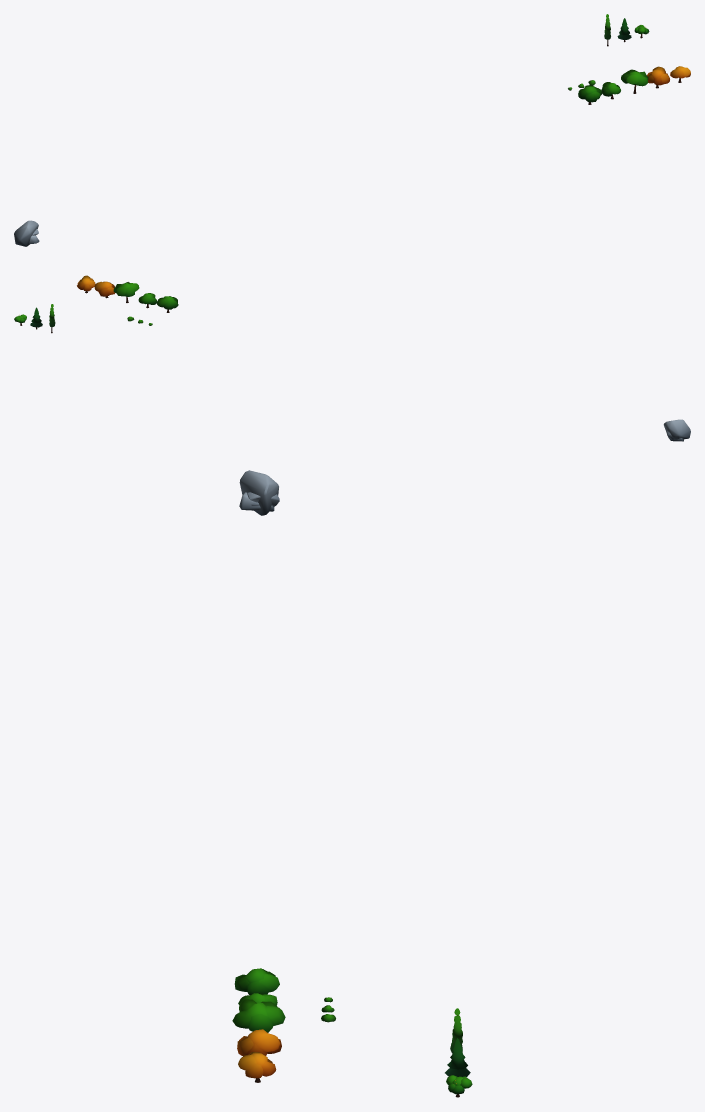
File: Harita_Doga.fbx
3 views of the same model, one above another, from view 1: azimuth 30°, elevation 25°; view 2: azimuth 150°, elevation 25°; view 3: azimuth 270°, elevation 25° (orthographic). The views are drawn at different scales.
Parts seen in each view (by area): view 1: SM_Kaya_Kitle_2, SM_Agac_Yesil_3_LOD0; view 2: SM_Kaya_Kitle_2, SM_Agac_Yesil_3_LOD0; view 3: SM_Agac_Yesil_3_LOD0, SM_Kaya_Kitle_2.
Boxes of the visible parts, x1,y1,x2,y2 form: SM_Kaya_Kitle_2: [14, 220, 38, 246]; SM_Agac_Yesil_3_LOD0: [621, 69, 648, 93]; SM_Kaya_Kitle_2: [663, 419, 690, 439]; SM_Agac_Yesil_3_LOD0: [113, 282, 139, 302]; SM_Agac_Yesil_3_LOD0: [232, 999, 285, 1032]; SM_Kaya_Kitle_2: [239, 470, 279, 515].
Size of what is drawn, in the model's own units: 245 by 11.86 by 40.84.
